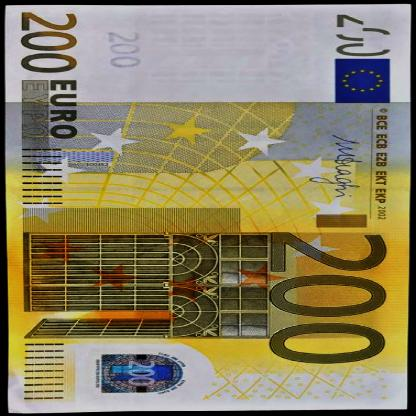euro_banknote: (5, 9, 412, 412)
